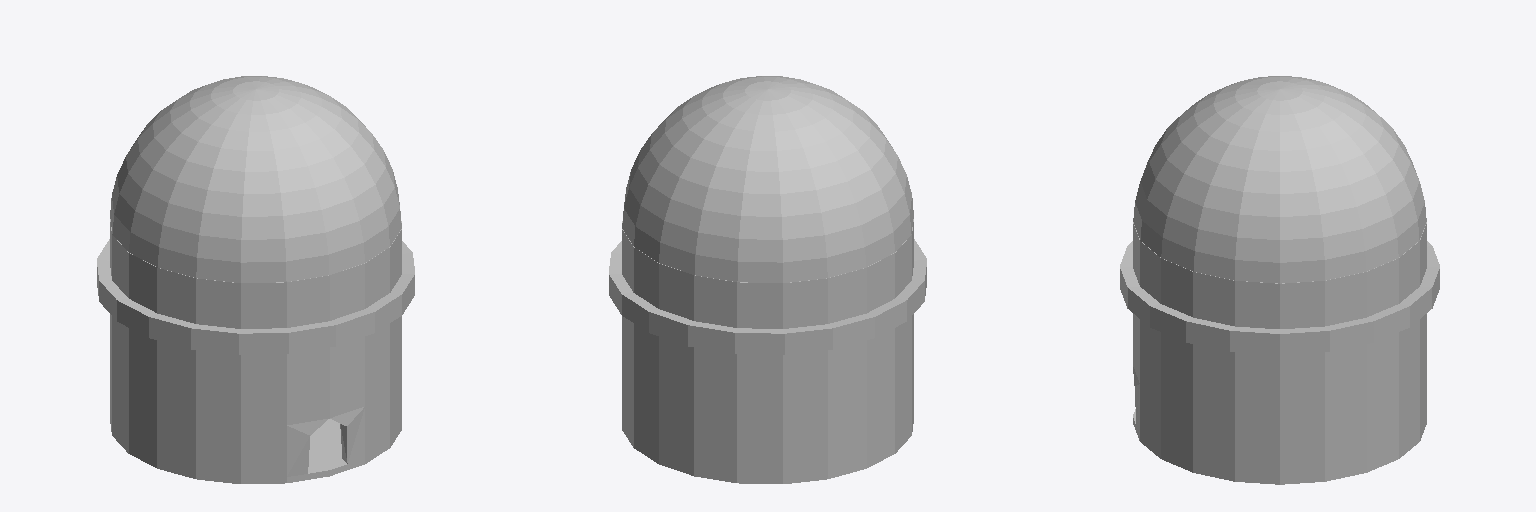
The model's file is ArenaWalls.obj.
The picture shows the model from 3 angles: view 1: azimuth 30°, elevation 25°; view 2: azimuth 150°, elevation 25°; view 3: azimuth 270°, elevation 25°; orthographic projection.
Visible parts, largest first — view 1: pCylinder2; view 2: pCylinder2; view 3: pCylinder2.
Boxes of the visible parts, box(x1,y1,x2,y2) form: pCylinder2: box(97, 76, 414, 483); pCylinder2: box(609, 76, 926, 483); pCylinder2: box(1120, 76, 1439, 484).
Size of the model in its own units: 11.1 by 12.73 by 11.1.